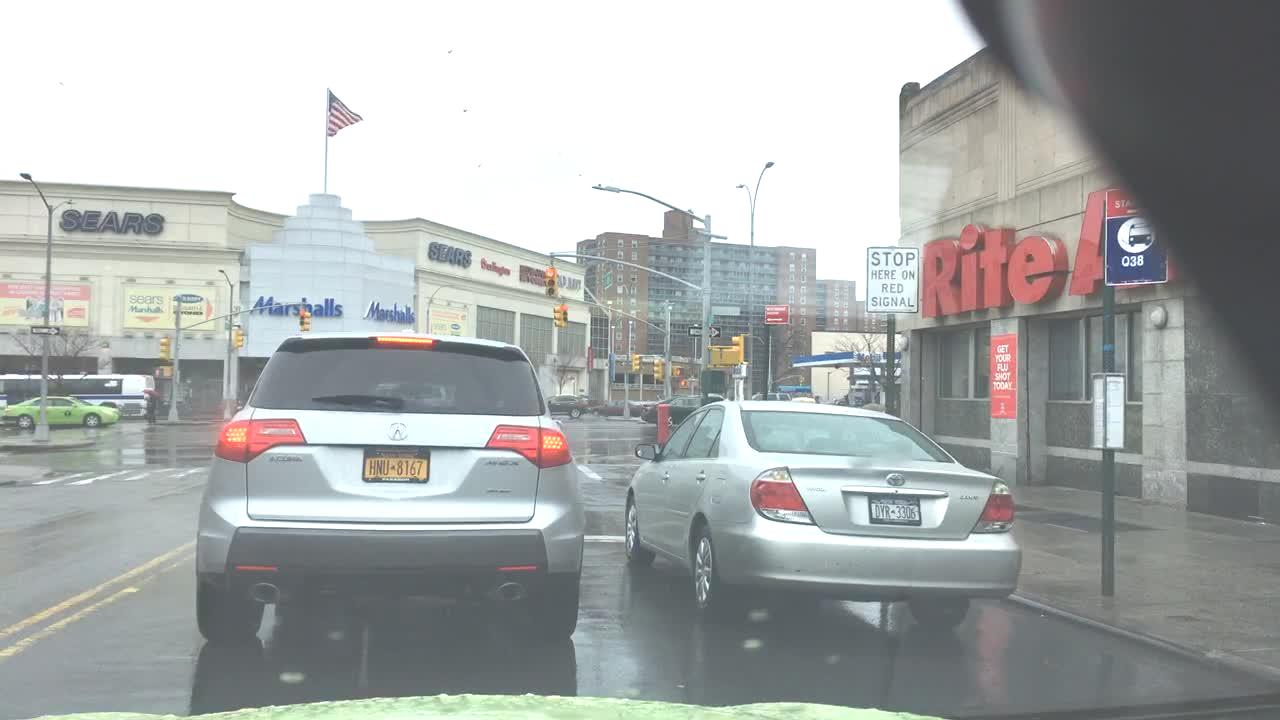Toyota: (877, 469, 912, 492)
acura: (385, 418, 410, 443)
